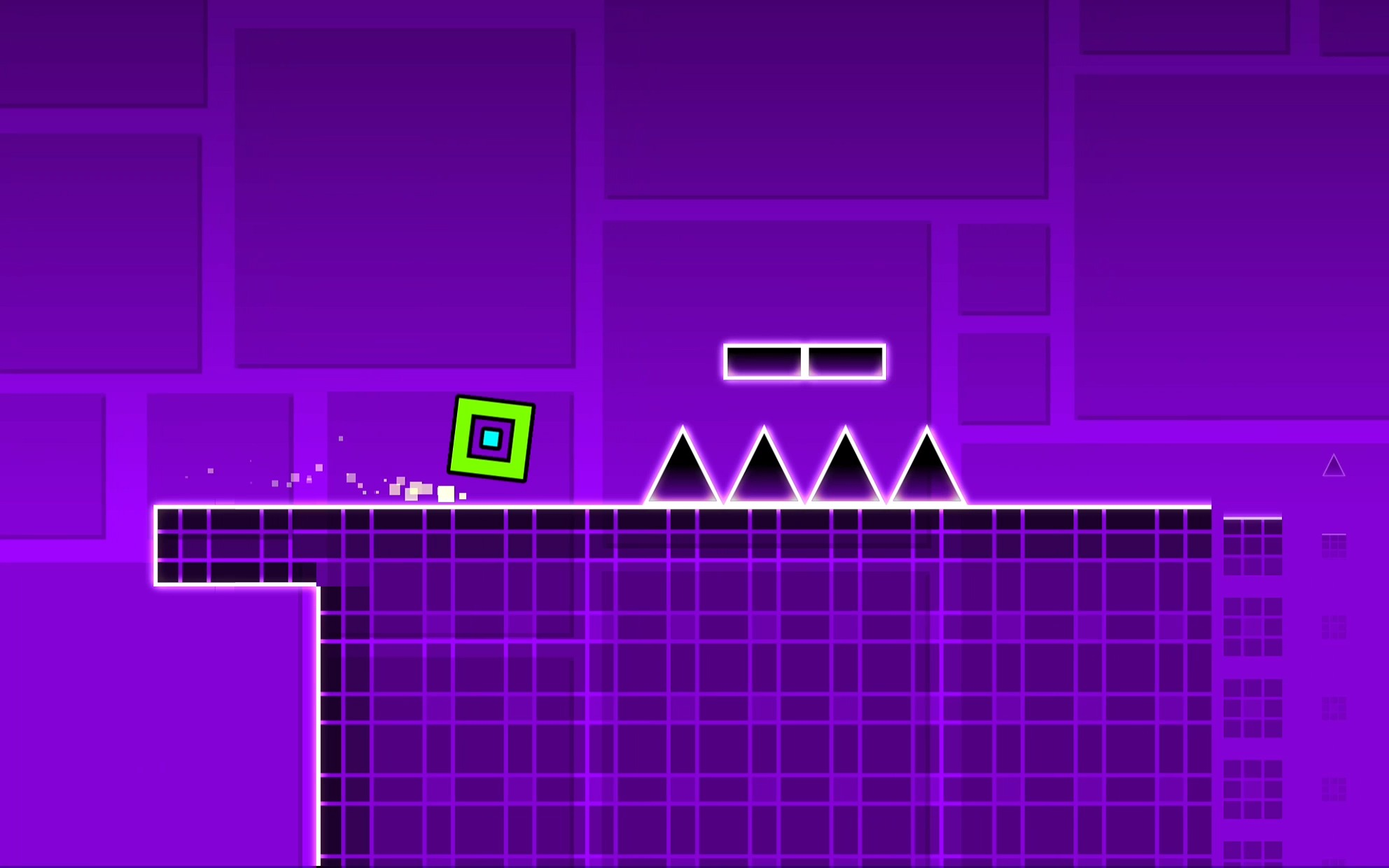Block2: (319, 506, 1282, 864), (154, 505, 317, 583)
Block3: (720, 342, 886, 379)
Player: (448, 396, 533, 480)
Spike: (645, 426, 718, 502), (891, 426, 963, 502), (809, 427, 881, 501), (728, 427, 800, 501)
